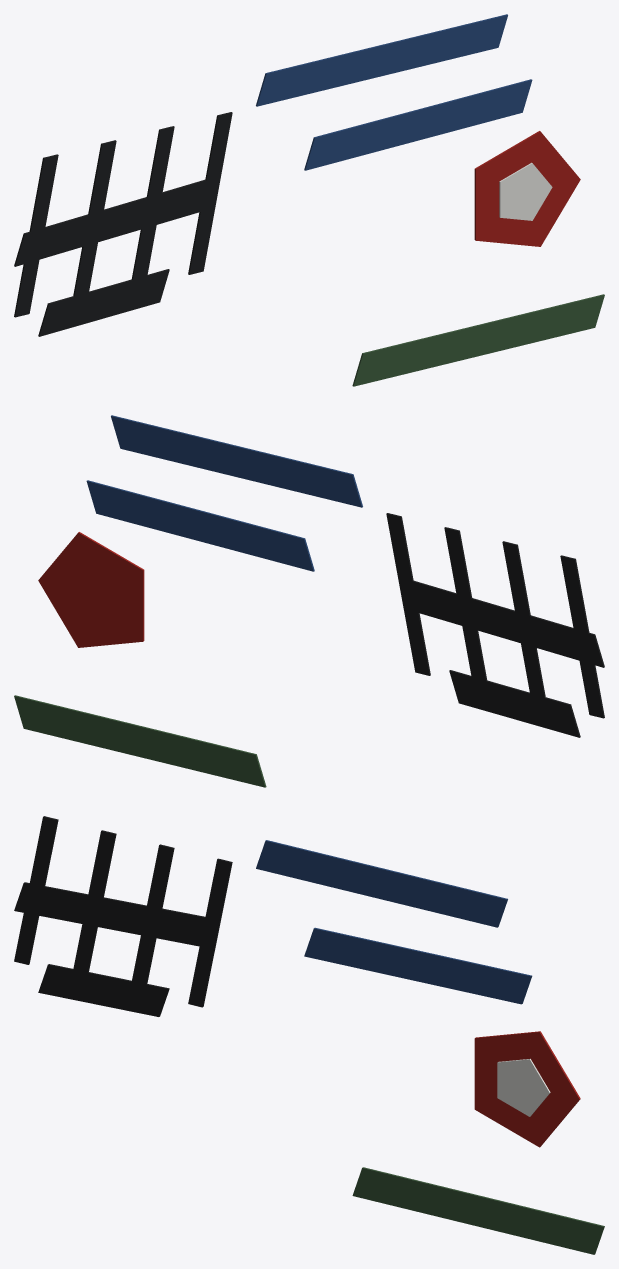
The model's file is graffiti_scrawl.glb.
3 renders of one model, top to bottom at view 1: azimuth 30°, elevation 25°; view 2: azimuth 150°, elevation 25°; view 3: azimuth 330°, elevation 25°, orthographic.
Visible parts, largest first — view 1: graffiti_scrawl; view 2: graffiti_scrawl; view 3: graffiti_scrawl.
Boxes of the visible parts, x1,y1,x2,y2 form: graffiti_scrawl: [14, 14, 604, 386]; graffiti_scrawl: [14, 415, 604, 787]; graffiti_scrawl: [14, 816, 604, 1254].
Bounding box in the file's own units: 1.22 × 0.66 × 0.007.
Materials: 1 (1 with a texture image).
